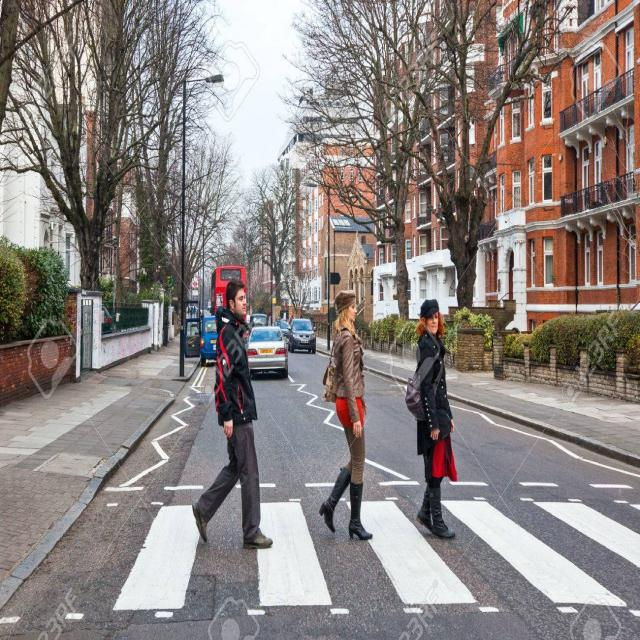Pedestrian crosswalk: (96, 495, 639, 611)
Person: (202, 276, 271, 556), (318, 286, 377, 543), (408, 298, 457, 544)
